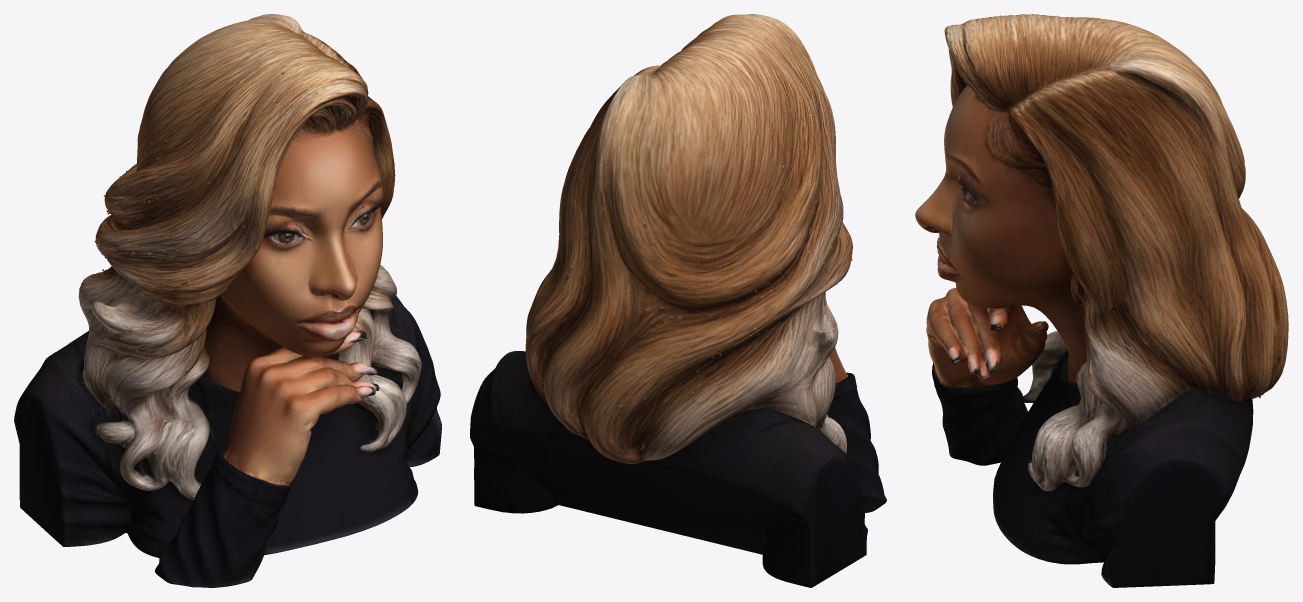
The model's file is avatar_3d.glb.
3 renders of one model, left to right at view 1: azimuth 30°, elevation 25°; view 2: azimuth 150°, elevation 25°; view 3: azimuth 270°, elevation 25°, orthographic. The views are drawn at different scales.
Visible parts, largest first — view 1: tripo_node_55b6651e-2b48-47d5-93ad-ba665612ba8f; view 2: tripo_node_55b6651e-2b48-47d5-93ad-ba665612ba8f; view 3: tripo_node_55b6651e-2b48-47d5-93ad-ba665612ba8f.
Part boxes in pixels (x1=…): tripo_node_55b6651e-2b48-47d5-93ad-ba665612ba8f: x1=14, y1=14, x2=441, y2=587; tripo_node_55b6651e-2b48-47d5-93ad-ba665612ba8f: x1=470, y1=14, x2=886, y2=587; tripo_node_55b6651e-2b48-47d5-93ad-ba665612ba8f: x1=915, y1=14, x2=1288, y2=587.
Size of the model in its own units: 0.8051 by 0.9805 by 0.6954.
Materials: 1 (1 with a texture image).
